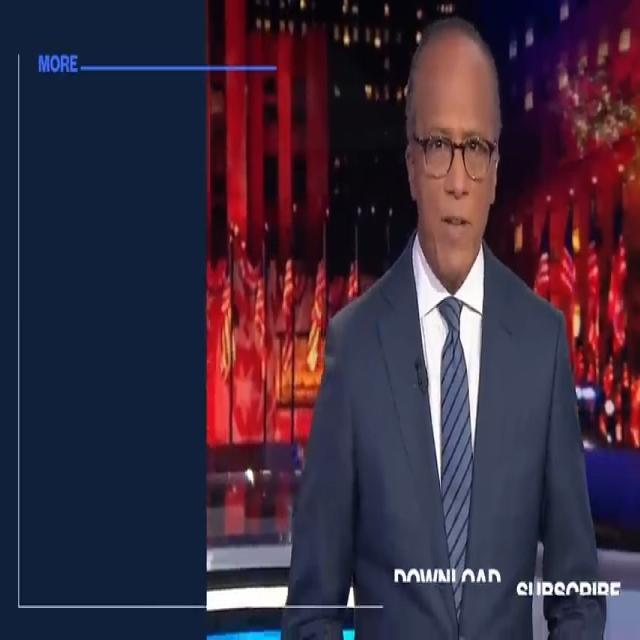non-fight: (285, 14, 607, 640)
